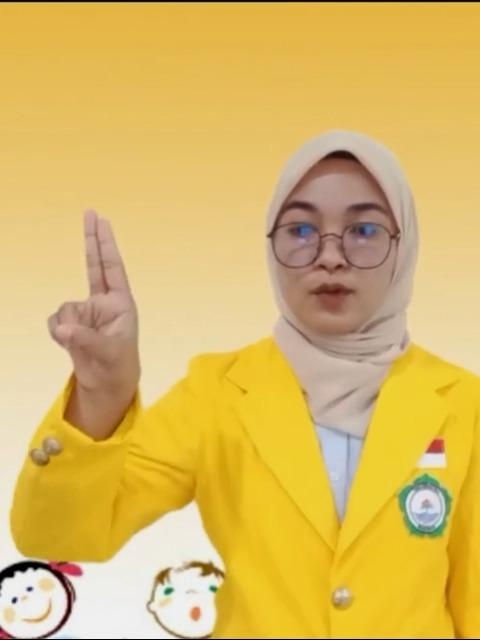U: (37, 206, 141, 392)
